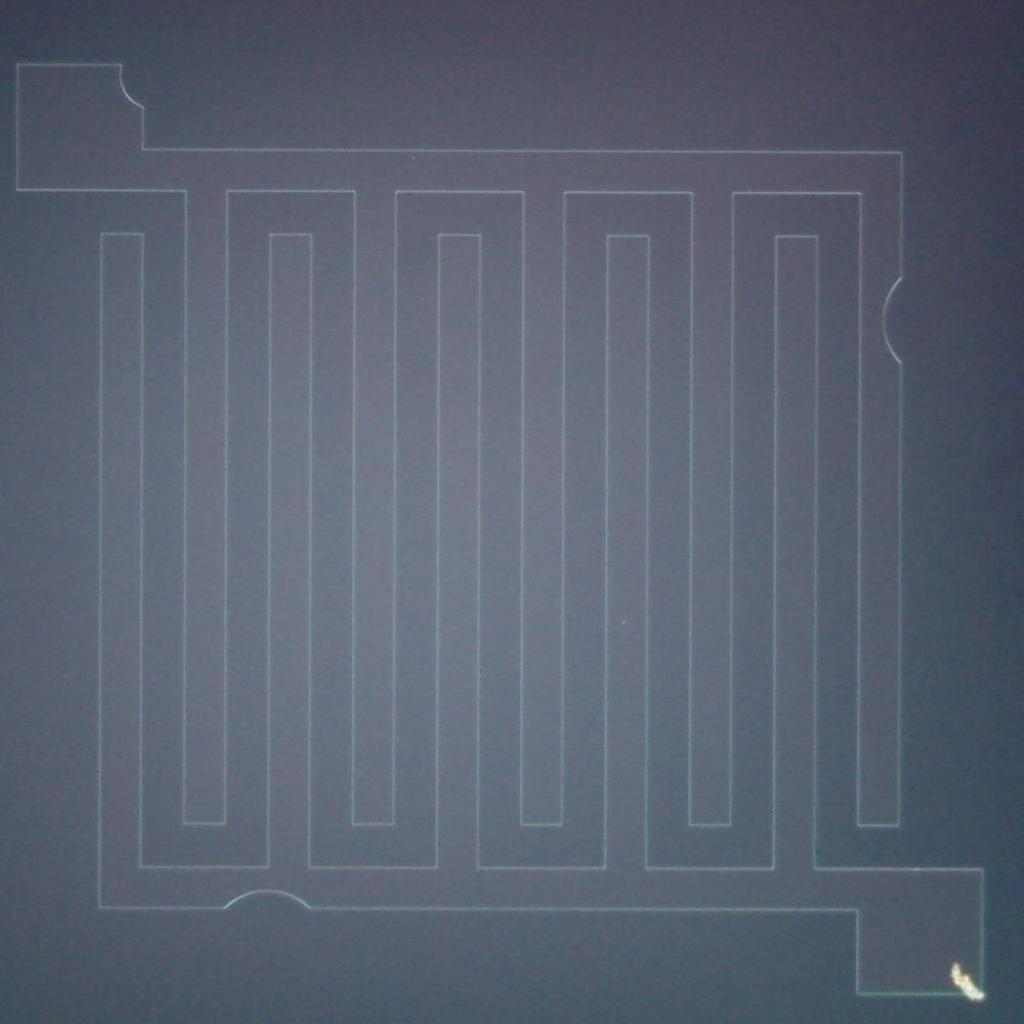dot: (622, 620, 626, 624)
